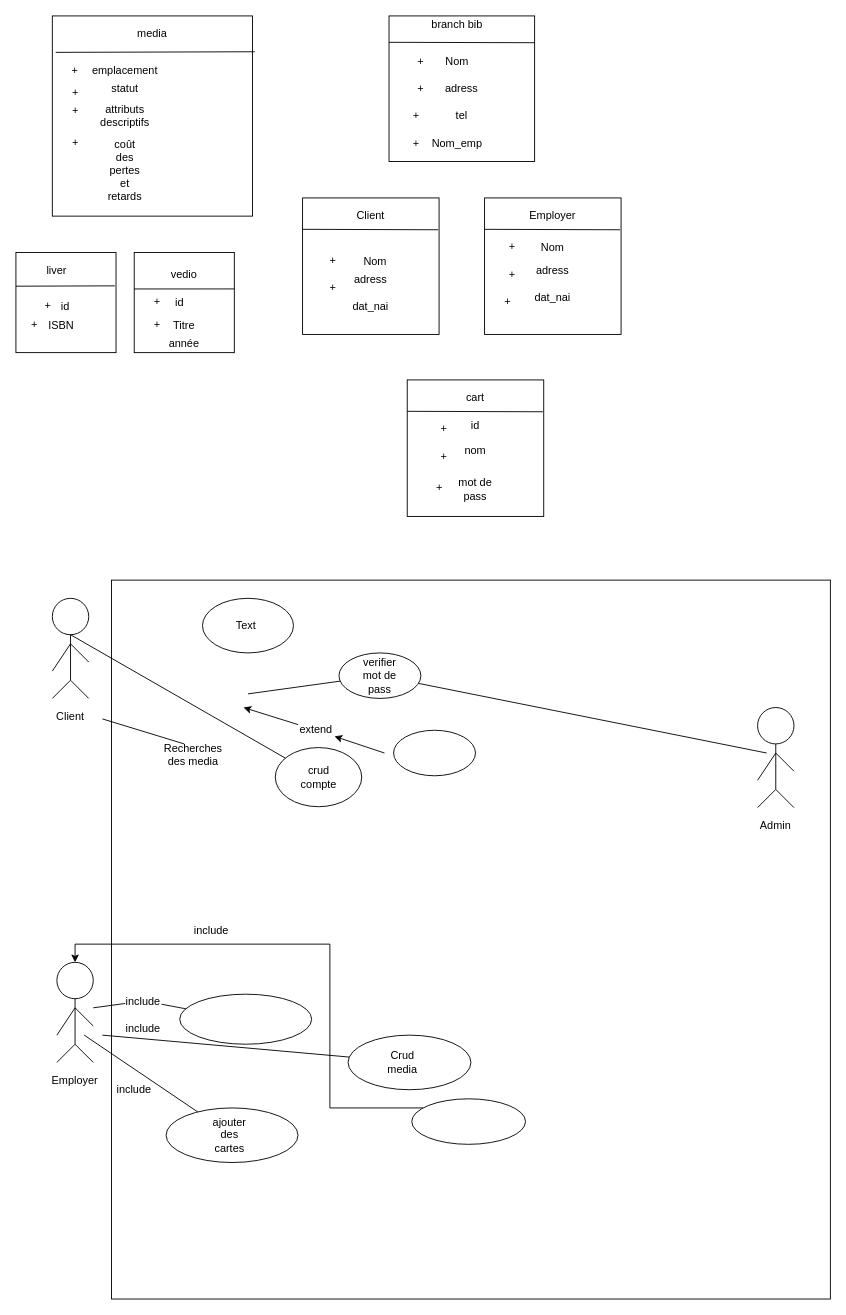
Image size: 846x1315. Some labels were removed from this diagram. The centre of each missing label's shape, as x and y in pixels:
"ajouter des comptes" goes at (245,1018).
"Erreur mot de pass" goes at (434,752).
"Select nom&adress&d_n client" goes at (468,1121).
